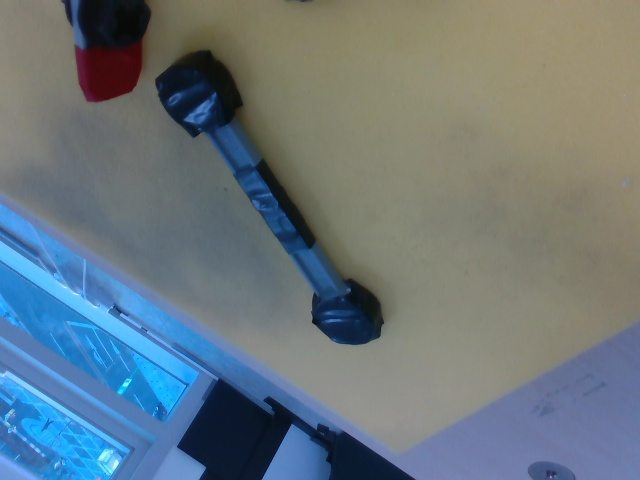part_1_good: (56, 1, 152, 106)
